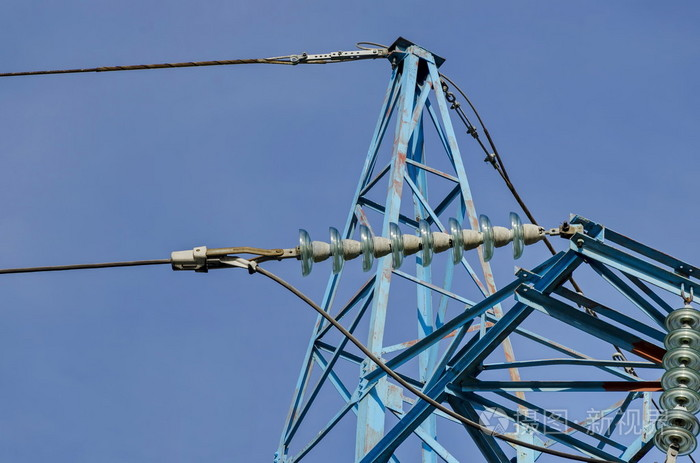insulator: (295, 212, 529, 279), (656, 305, 700, 459)
